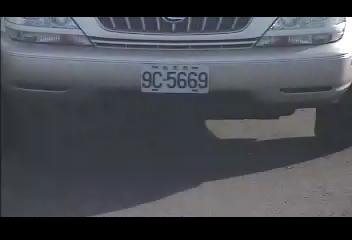plate: (139, 61, 210, 95)
